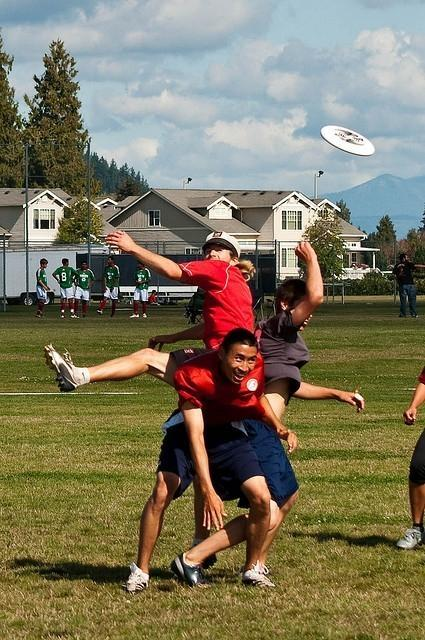truck: (0, 244, 91, 308)
